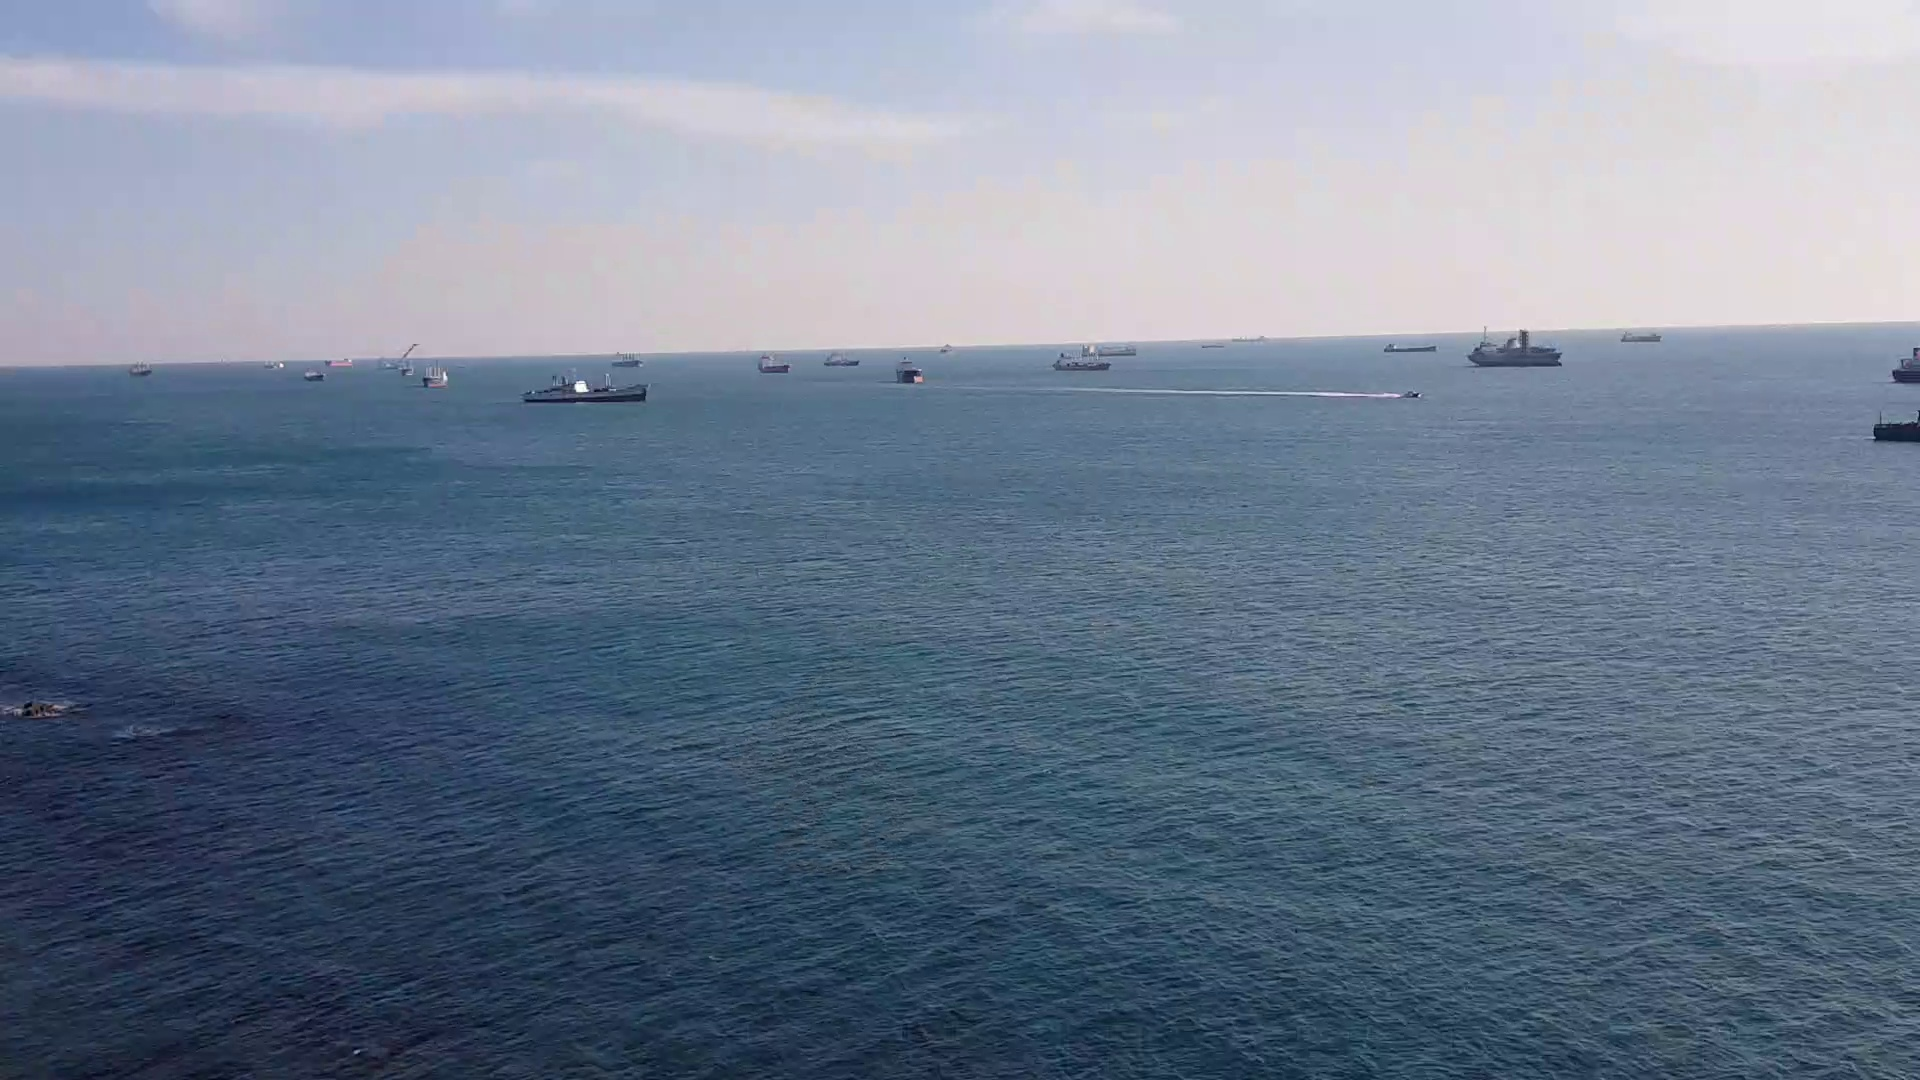Bulk_Carrier: (514, 376, 647, 404), (1461, 338, 1567, 367), (1044, 351, 1116, 371)
